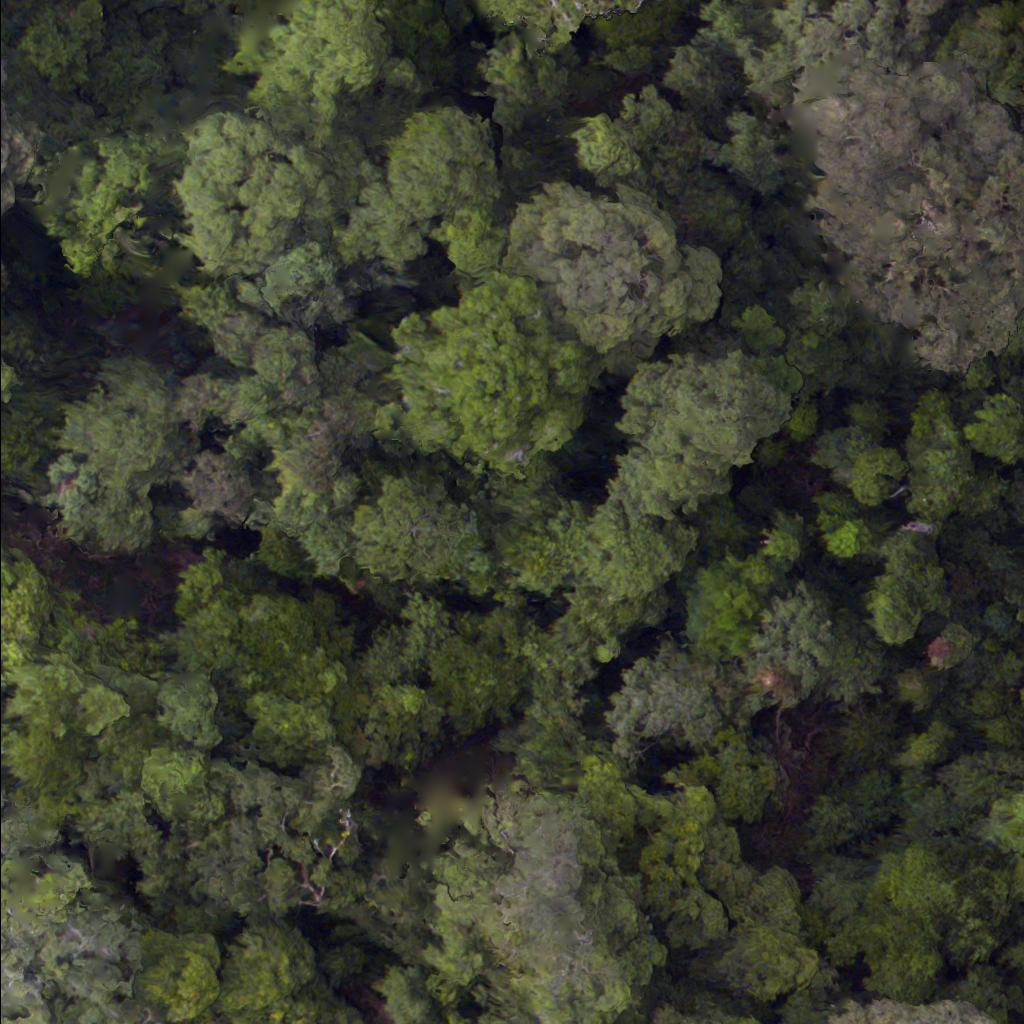crown: (790, 47, 1023, 374), (862, 527, 949, 646), (902, 388, 978, 524), (844, 995, 993, 1023), (890, 0, 975, 18)
